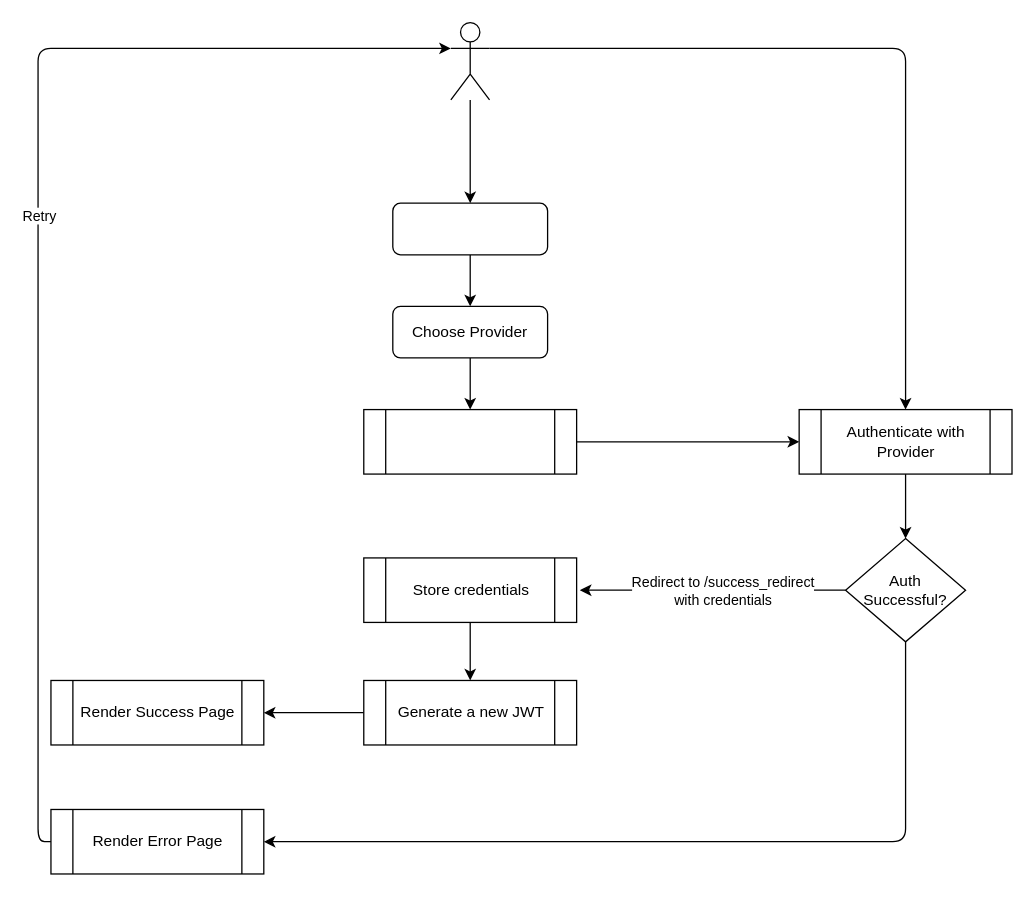
Some shapes in this 1035 by 897 pixel diagram are drawn without their labels. Each missing label, with the centre of its shape:
"Actor" goes at [470,60].
"Open /login" goes at [470,228].
"Redirect page to /auth/login/provider" goes at [469,441].
